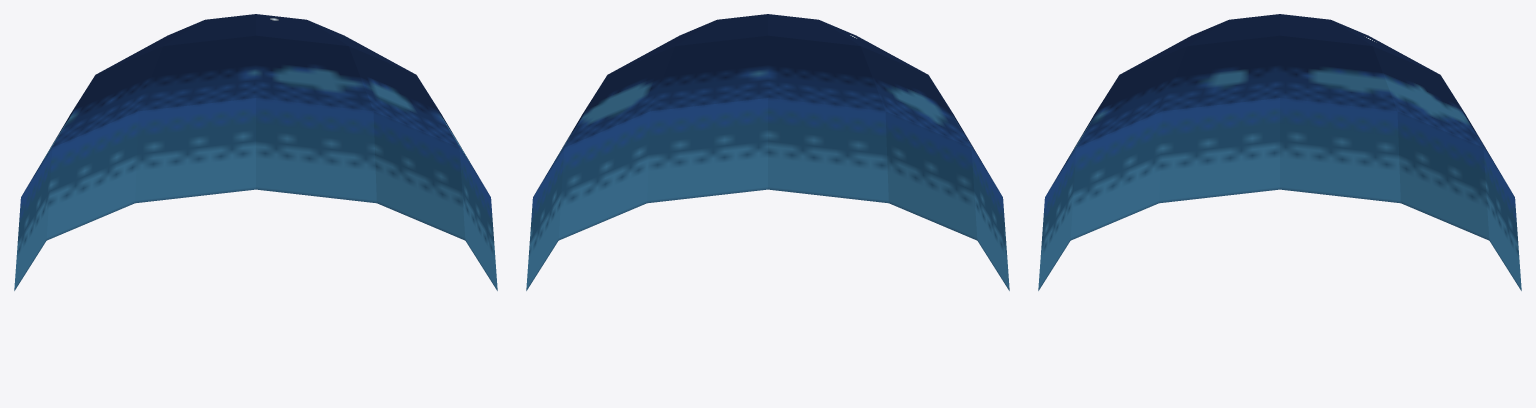
Rendered from sky.backdrop.glb.
3 renders of one model, left to right at view 1: azimuth 30°, elevation 25°; view 2: azimuth 150°, elevation 25°; view 3: azimuth 270°, elevation 25°, orthographic.
Visible parts, largest first — view 1: kit_shell_sky; view 2: kit_shell_sky; view 3: kit_shell_sky.
Boxes of the visible parts, x1,y1,x2,y2 form: kit_shell_sky: (14, 14, 497, 290); kit_shell_sky: (526, 14, 1009, 290); kit_shell_sky: (1038, 14, 1521, 290).
Bounding box in the file's own units: 791 × 460 × 791.
1 material, 1 textured.
